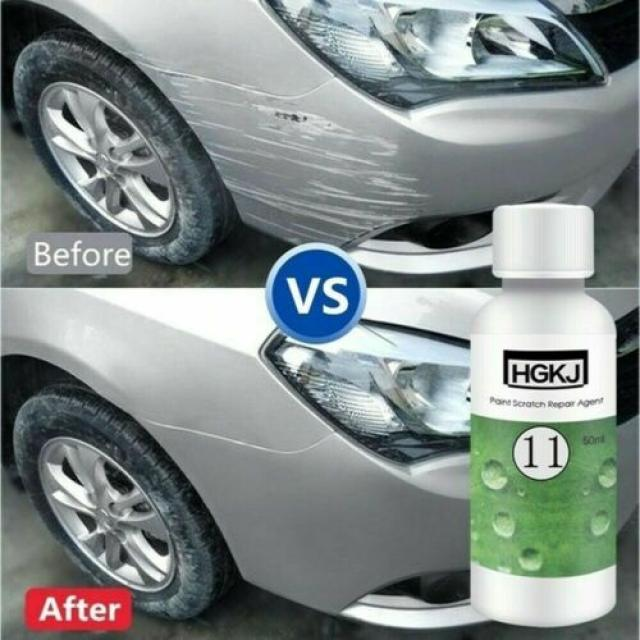scratch: (145, 60, 434, 249)
